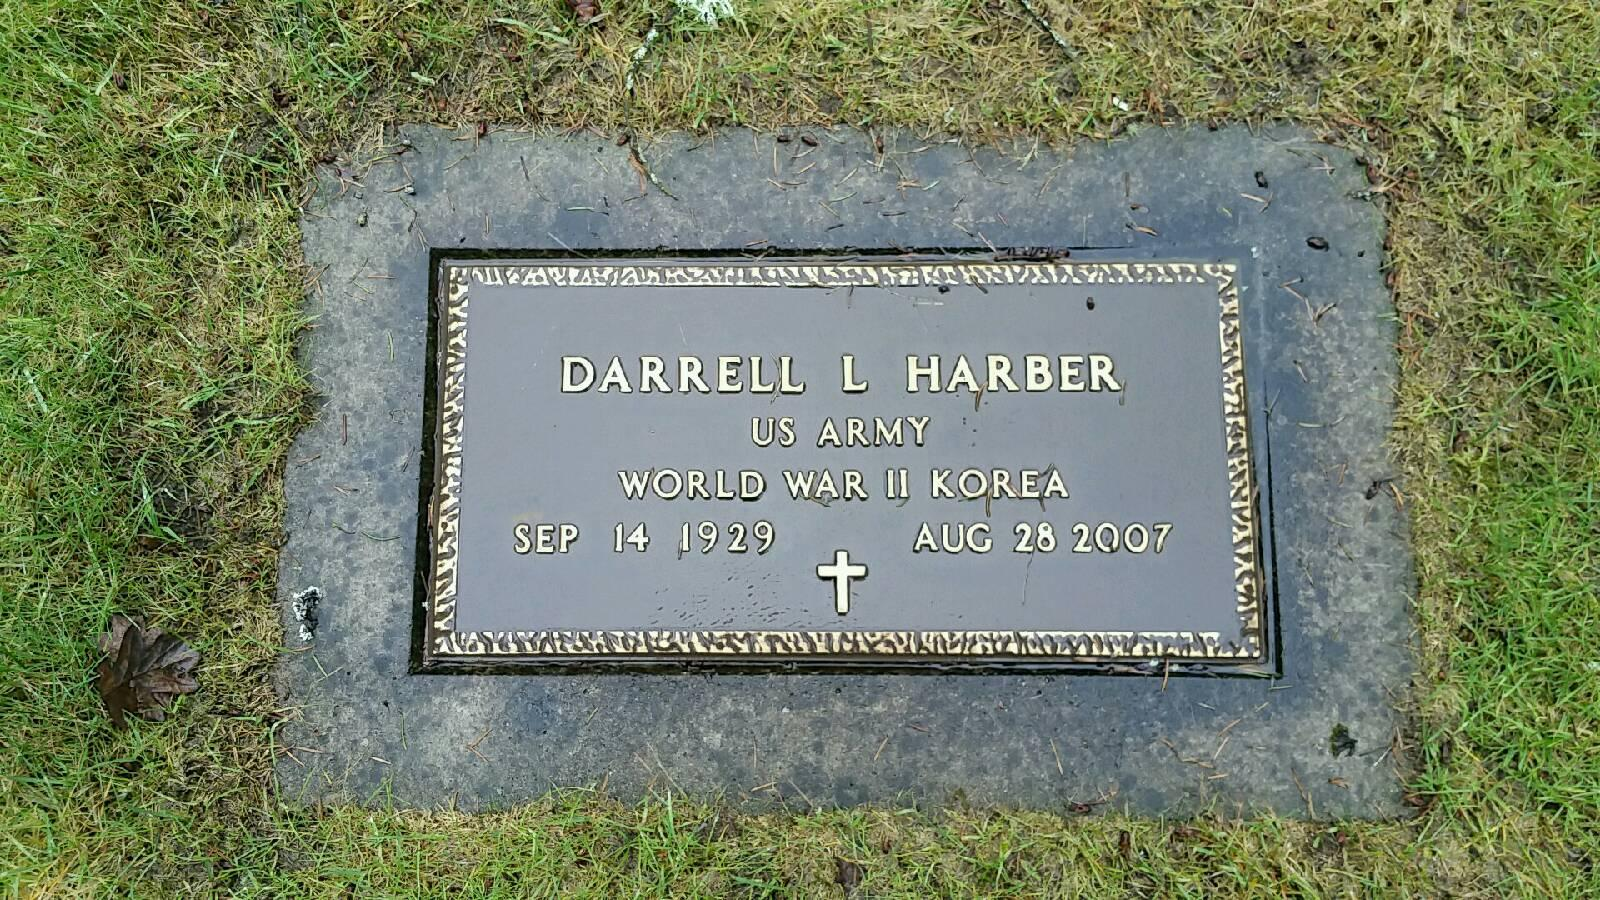flat: (284, 126, 1437, 830)
